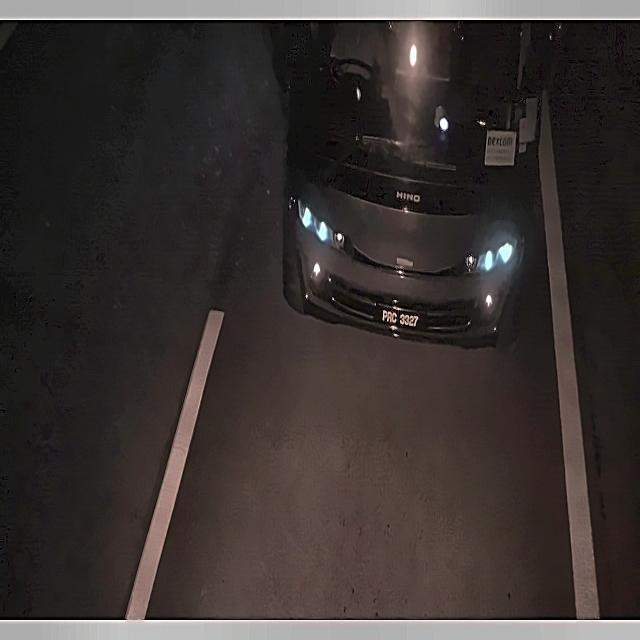car: (370, 298, 426, 341)
